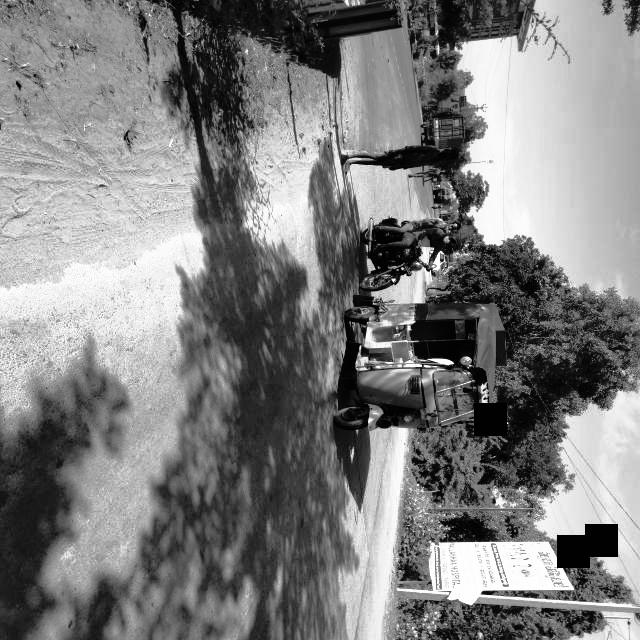Auto-Rickshaw: (359, 276, 508, 457)
